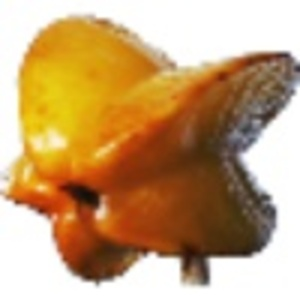carambola: (1, 13, 300, 288)
